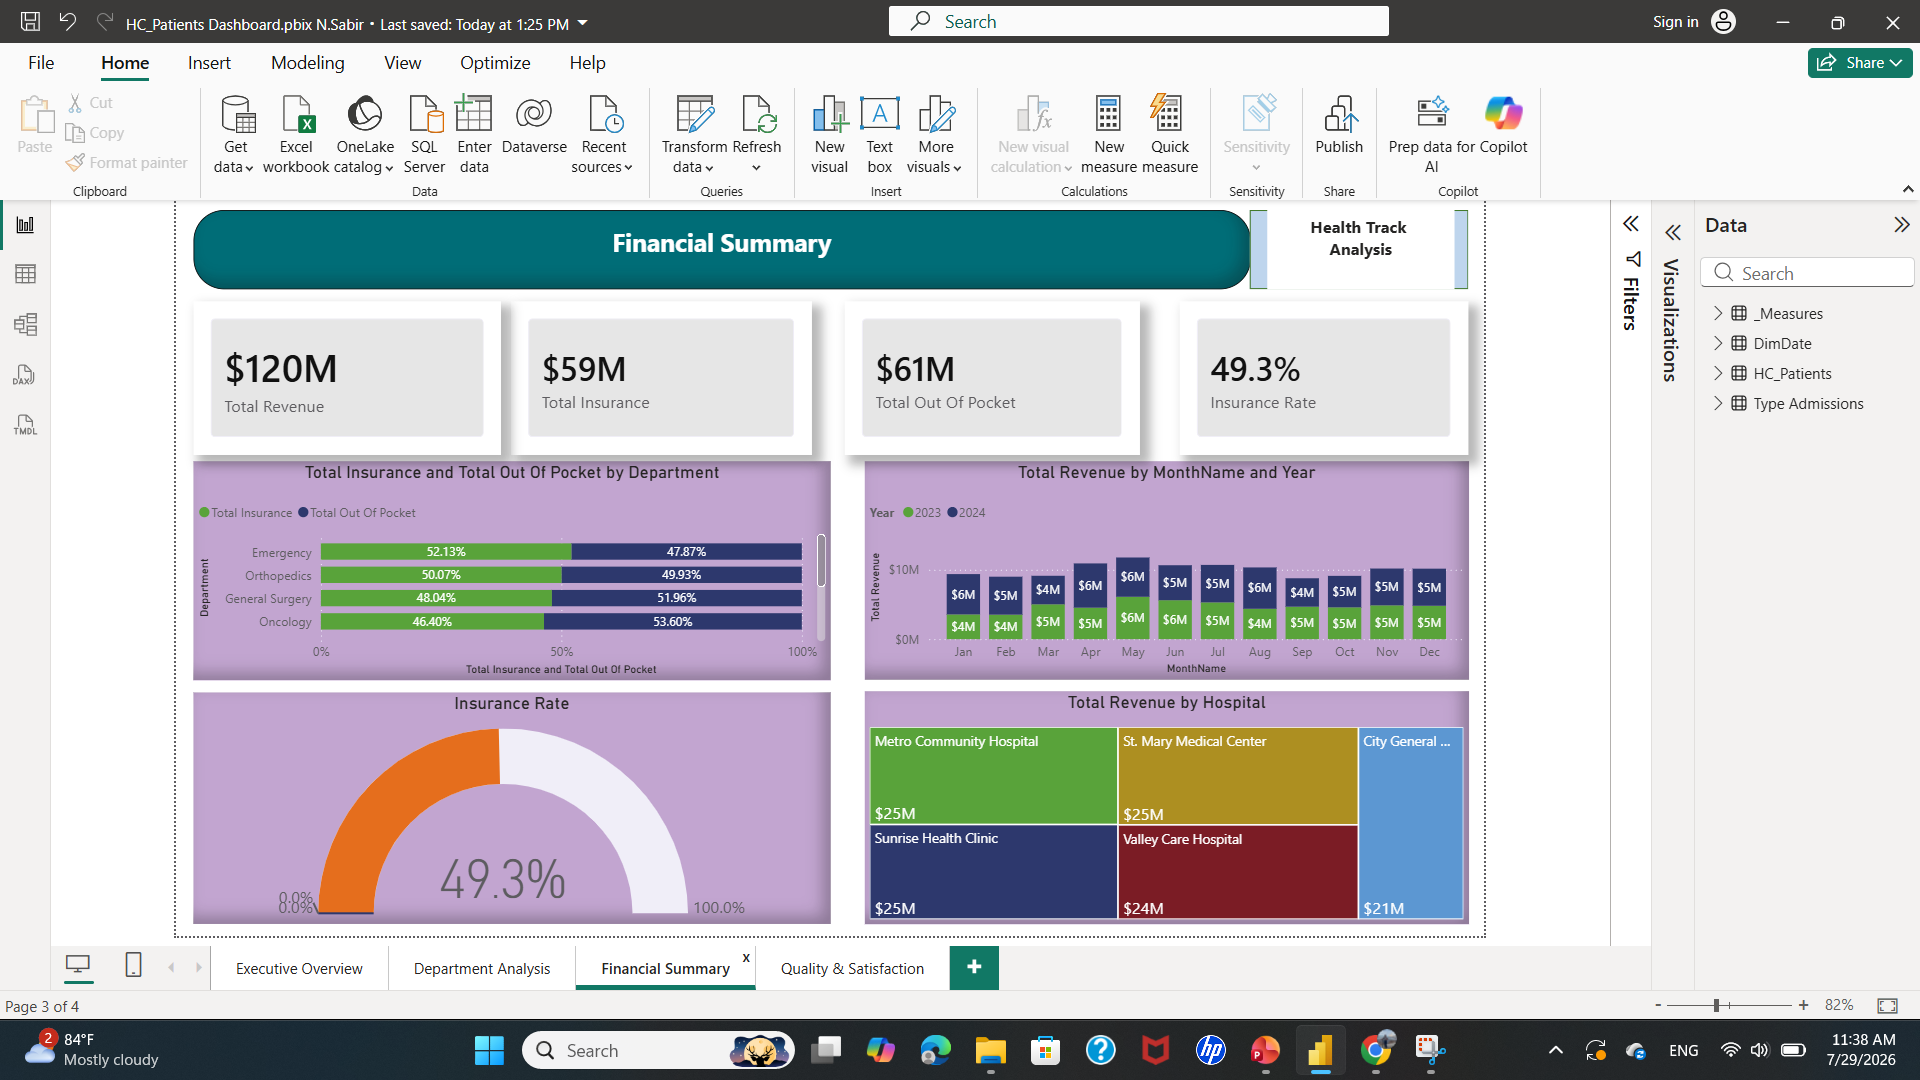

Layout of this report page (visuals, bound fields, positions):
{"tool":"powerbi","page":{"name":"Financial Summary","canvas":[1280,720],"ordinal":2},"visuals":[{"type":"textbox","box":[0,0,1280,38.9],"z":0},{"type":"shape","box":[1152.5,4.3,127.5,30.2],"z":1000},{"type":"cardVisual","fields":{"Data":["_Measures.Total Revenue"]},"box":[13.6,51.7,260,90],"z":2000},{"type":"cardVisual","fields":{"Data":["_Measures.Total Insurance"]},"box":[330.2,51.7,260,90],"z":3000},{"type":"cardVisual","fields":{"Data":["_Measures.Total Out of Pocket"]},"box":[667.7,51.7,260,90],"z":4000},{"type":"cardVisual","fields":{"Data":["_Measures.Insurance Rate %"]},"box":[1001.6,51.7,260,90],"z":5000},{"type":"hundredPercentStackedBarChart","title":"Insurance vs Out-of-Pocket","fields":{"Category":["Admissions.Department"],"Y":["_Measures.Total Insurance","_Measures.Total Out of Pocket"]},"box":[23.1,175.2,609.6,293.8],"z":6000},{"type":"treemap","title":"Revenue by Hospital","fields":{"Group":["Admissions.Hospital"],"Values":["_Measures.Total Revenue"]},"box":[23.1,501.5,886.6,205.6],"z":7000},{"type":"gauge","title":"Insurance Coverage Rate","fields":{"Y":["_Measures.Insurance Rate %"],"TargetValue":["Admissions.Insurance Target"]},"box":[921.2,501.5,334.7,205.6],"z":8000},{"type":"columnChart","title":"Revenue by Month & Year","fields":{"Y":["_Measures.Total Revenue"],"Category":["DimDate.MonthName"],"Series":["DimDate.Year"]},"box":[666.2,175.2,589.6,293.8],"z":9000}]}

Visuals, with their boxes on the page's 1280x720 design canvas (x1, y1, x2, y2). These are canvas units, not pixel positions in the 1920x1080 screenshot, which may show the page scaled, cropped or inside an application window:
textbox: {"x1": 0, "y1": 0, "x2": 1280, "y2": 39}
shape: {"x1": 1152, "y1": 4, "x2": 1280, "y2": 34}
cardVisual - _Measures.Total Revenue: {"x1": 14, "y1": 52, "x2": 274, "y2": 142}
cardVisual - _Measures.Total Insurance: {"x1": 330, "y1": 52, "x2": 590, "y2": 142}
cardVisual - _Measures.Total Out of Pocket: {"x1": 668, "y1": 52, "x2": 928, "y2": 142}
cardVisual - _Measures.Insurance Rate %: {"x1": 1002, "y1": 52, "x2": 1262, "y2": 142}
"Insurance vs Out-of-Pocket" hundredPercentStackedBarChart: {"x1": 23, "y1": 175, "x2": 633, "y2": 469}
"Revenue by Hospital" treemap: {"x1": 23, "y1": 502, "x2": 910, "y2": 707}
"Insurance Coverage Rate" gauge: {"x1": 921, "y1": 502, "x2": 1256, "y2": 707}
"Revenue by Month & Year" columnChart: {"x1": 666, "y1": 175, "x2": 1256, "y2": 469}
